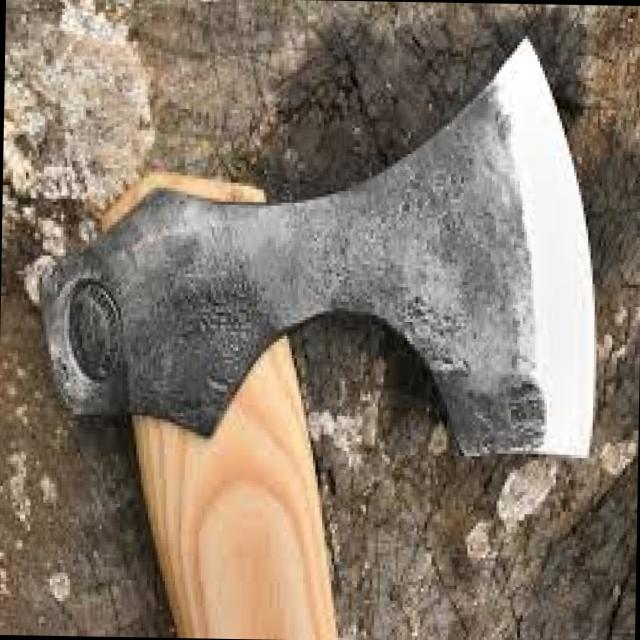Gun: (42, 25, 587, 640)
